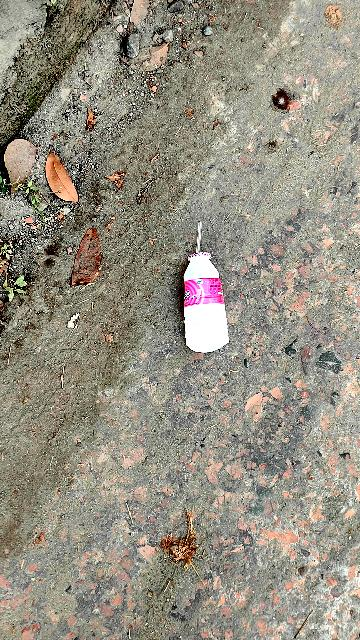bottle: (173, 230, 236, 362)
